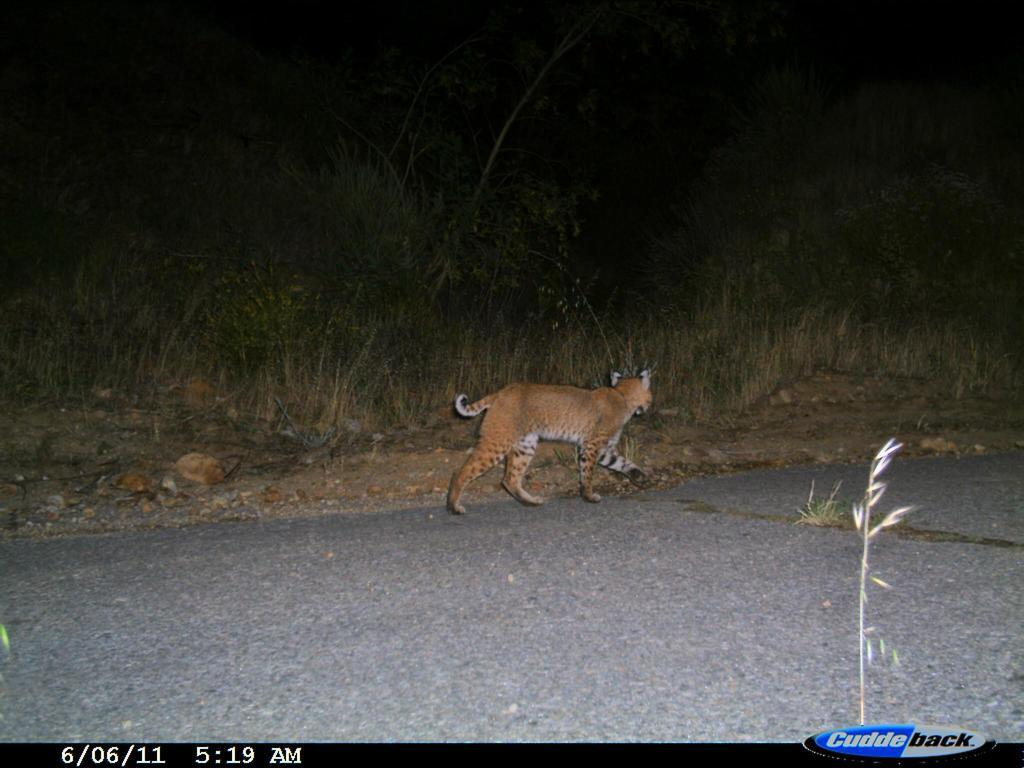bobcat: (449, 361, 664, 519)
